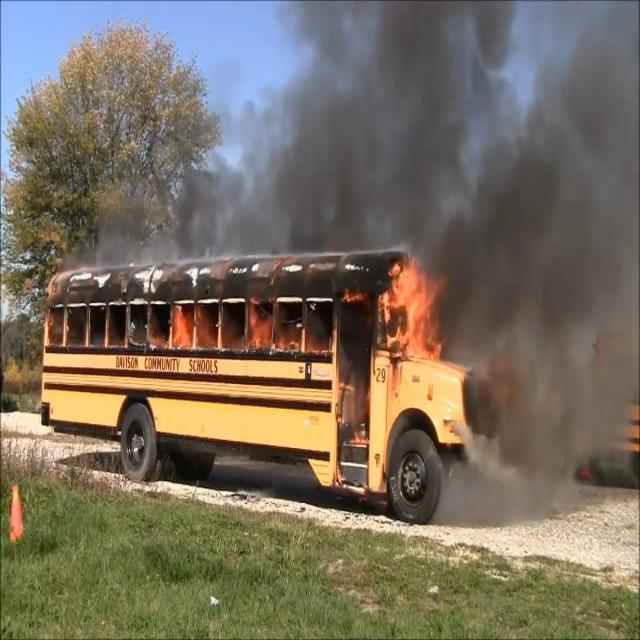Smoke: (464, 26, 625, 398)
